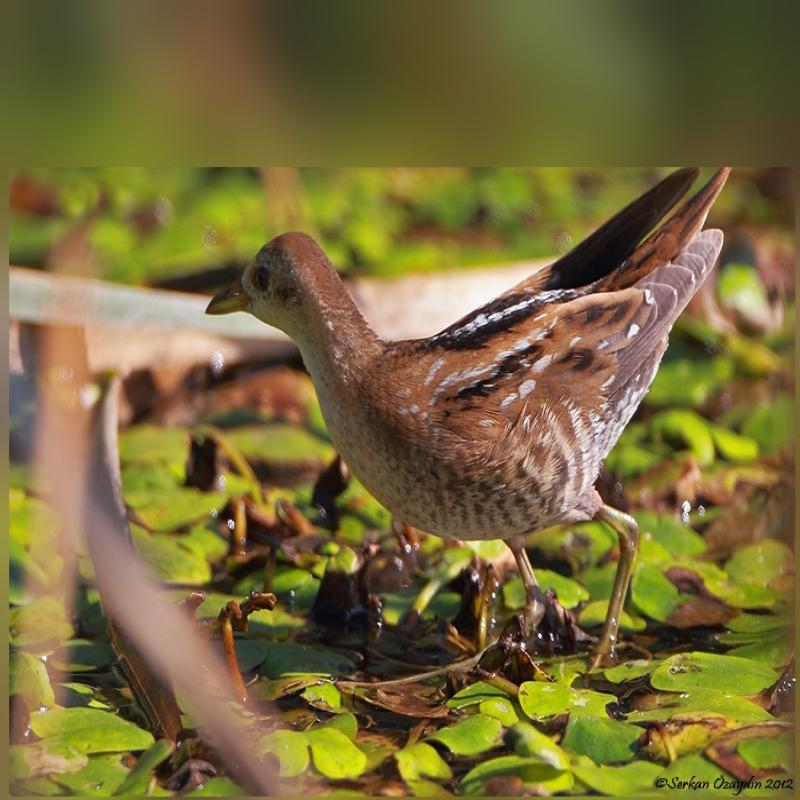little crake: (195, 168, 740, 578)
